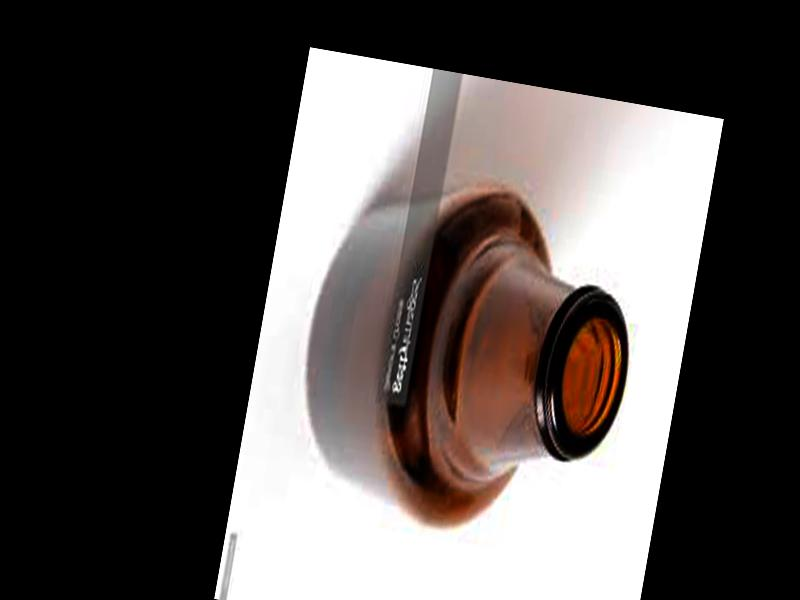Beer: (280, 157, 656, 553)
